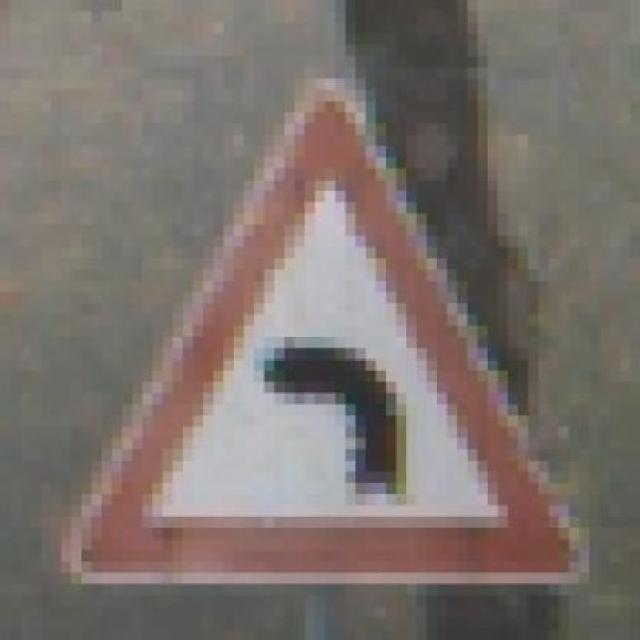Dangerous Left Curve Ahead: (51, 45, 589, 606)
